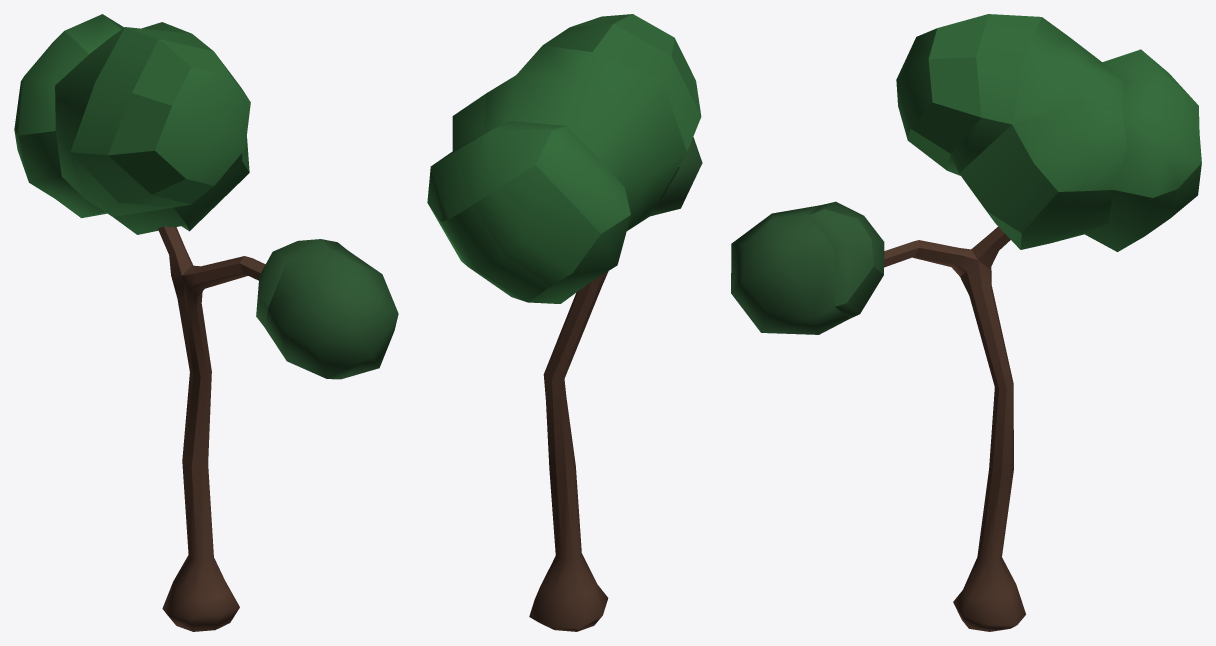
The model's file is Arbol_pequeño.fbx.
The picture shows the model from 3 angles, left to right: view 1: azimuth 30°, elevation 25°; view 2: azimuth 150°, elevation 25°; view 3: azimuth 270°, elevation 25°; orthographic projection. The views are drawn at different scales.
Visible parts, largest first — view 1: Hojas_der_ap, Hojas_izq_ap, Tronco_ap; view 2: Hojas_der_ap, Tronco_ap, Hojas_izq_ap; view 3: Hojas_der_ap, Hojas_izq_ap, Tronco_ap.
Part boxes in pixels (<box>): Hojas_der_ap: <box>14,14,250,234</box>; Hojas_izq_ap: <box>256,239,398,379</box>; Tronco_ap: <box>158,226,265,631</box>; Hojas_der_ap: <box>427,14,701,303</box>; Tronco_ap: <box>529,271,608,631</box>; Hojas_izq_ap: <box>650,137,702,216</box>; Hojas_der_ap: <box>896,14,1201,251</box>; Hojas_izq_ap: <box>731,201,884,334</box>; Tronco_ap: <box>884,226,1025,631</box>.
Size of the model in its own units: 3.7 by 9.91 by 7.22.
